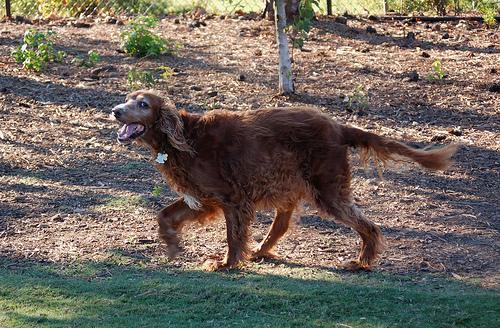Irish_setter: (113, 90, 456, 272)
